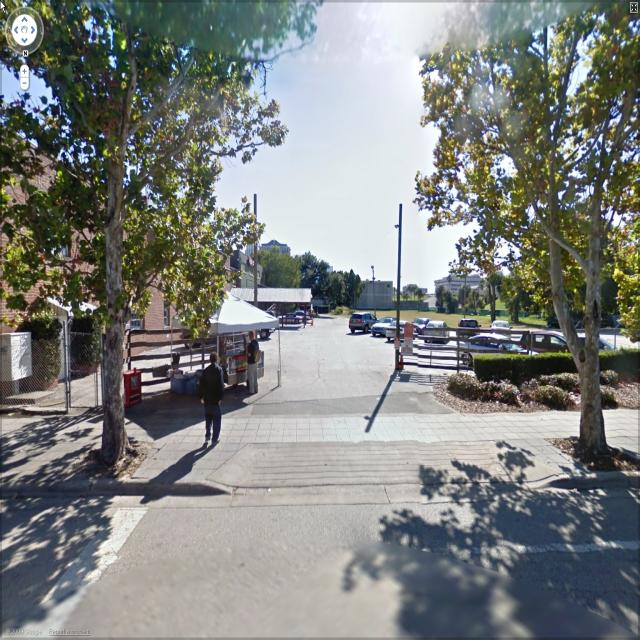b_2: (0, 114, 232, 386), (224, 240, 266, 298), (434, 264, 488, 308)
